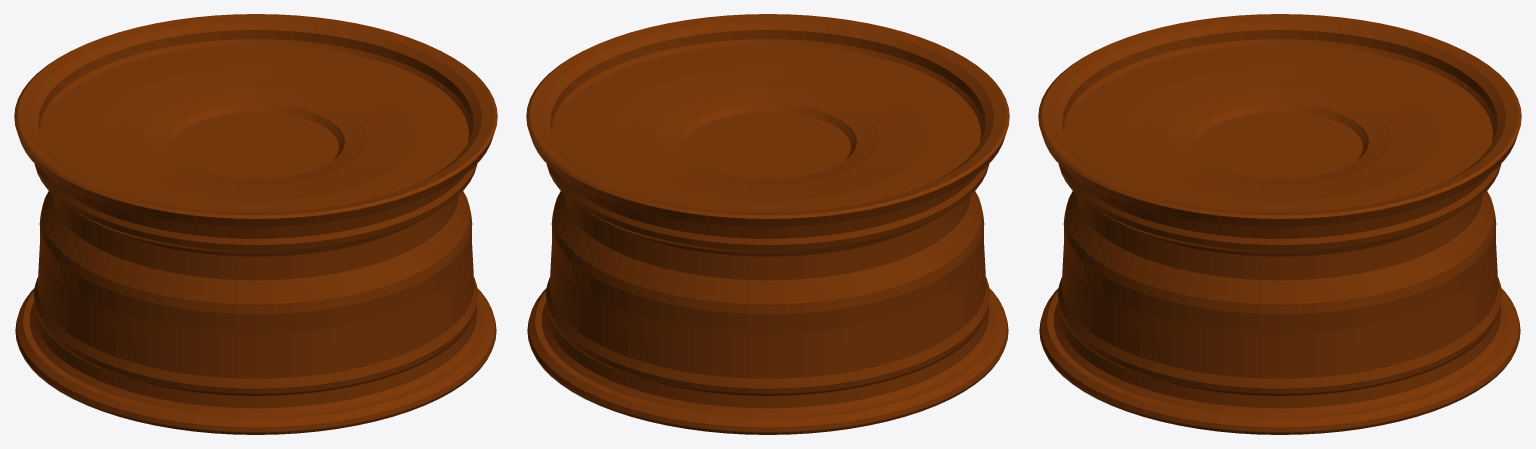
Rendered from bmw_e90_rear_Wheel.obj.
3 renders of one model, left to right at view 1: azimuth 30°, elevation 25°; view 2: azimuth 150°, elevation 25°; view 3: azimuth 270°, elevation 25°, orthographic.
Size of the model in its own units: 0.4572 by 0.2286 by 0.4572.
